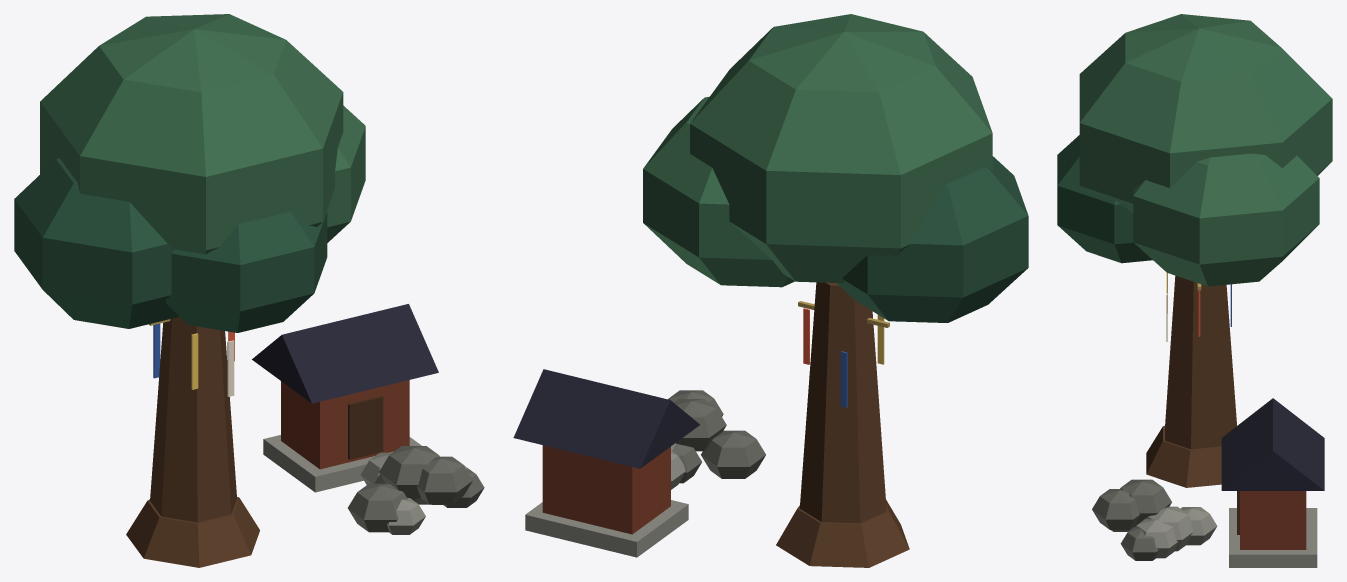
Rendered from prop_seonangdang.glb.
3 renders of one model, left to right at view 1: azimuth 30°, elevation 25°; view 2: azimuth 150°, elevation 25°; view 3: azimuth 270°, elevation 25°, orthographic. The views are drawn at different scales.
Parts seen in each view (by area): view 1: prop_seonangdang; view 2: prop_seonangdang; view 3: prop_seonangdang.
Boxes of the visible parts, x1,y1,x2,y2 form: prop_seonangdang: (14, 14, 484, 567); prop_seonangdang: (513, 14, 1028, 567); prop_seonangdang: (1057, 14, 1332, 567).
Bounding box in the file's own units: 5.7 × 6.52 × 3.74.
